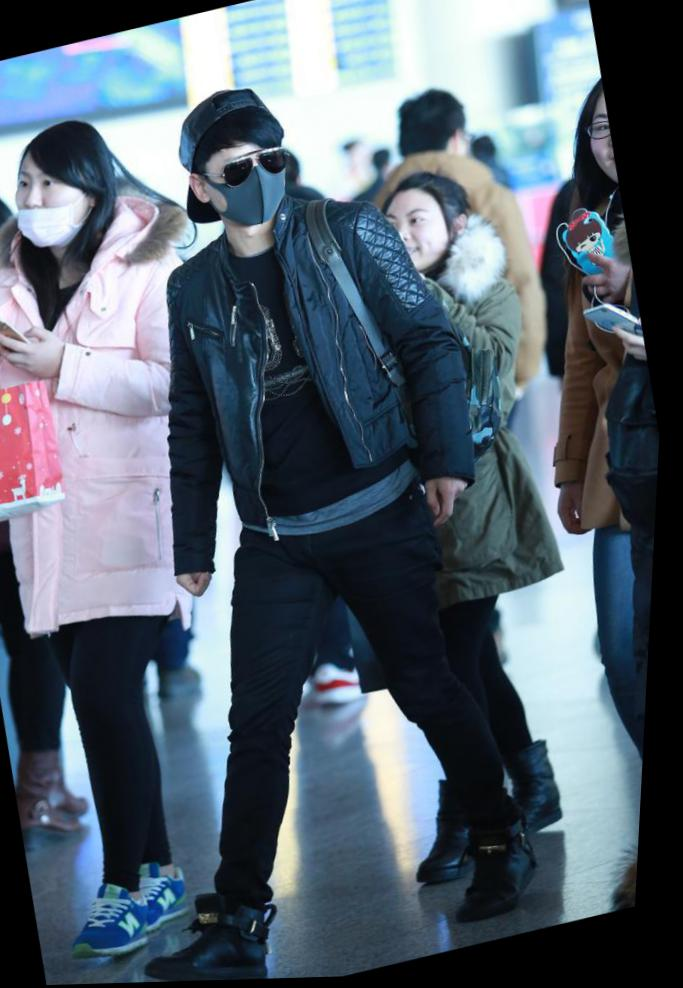NONE: (377, 201, 450, 280)
OK: (209, 140, 300, 242)
WRONG: (4, 158, 98, 250)
